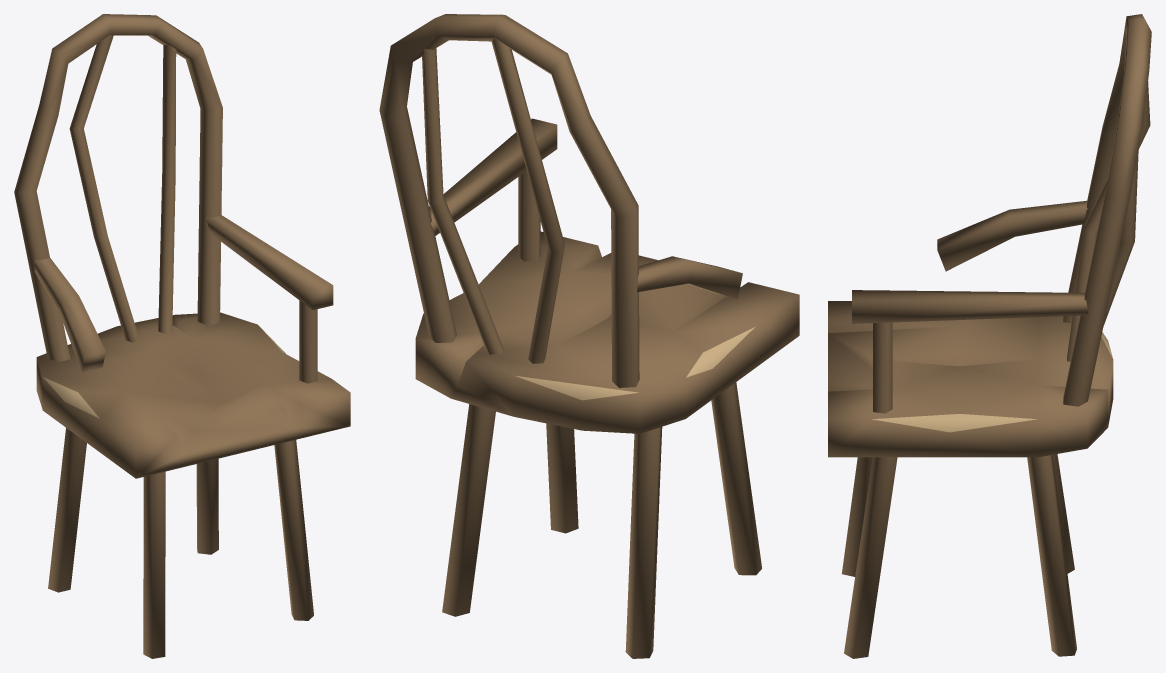
The model's file is rpgpp_av_chair_01a.gltf.
3 renders of one model, left to right at view 1: azimuth 30°, elevation 25°; view 2: azimuth 150°, elevation 25°; view 3: azimuth 270°, elevation 25°, orthographic. The views are drawn at different scales.
Parts seen in each view (by area): view 1: rpgpp_av_chair_01a; view 2: rpgpp_av_chair_01a; view 3: rpgpp_av_chair_01a.
Part boxes in pixels (x1,y1,x2,y2): rpgpp_av_chair_01a: (14, 14, 350, 658); rpgpp_av_chair_01a: (379, 14, 799, 658); rpgpp_av_chair_01a: (828, 14, 1151, 658).
Size of the model in its own units: 0.00404 by 0.00937 by 0.00462.
Materials: 1 (1 with a texture image).
